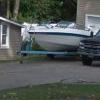Boat: (19, 15, 81, 59)
